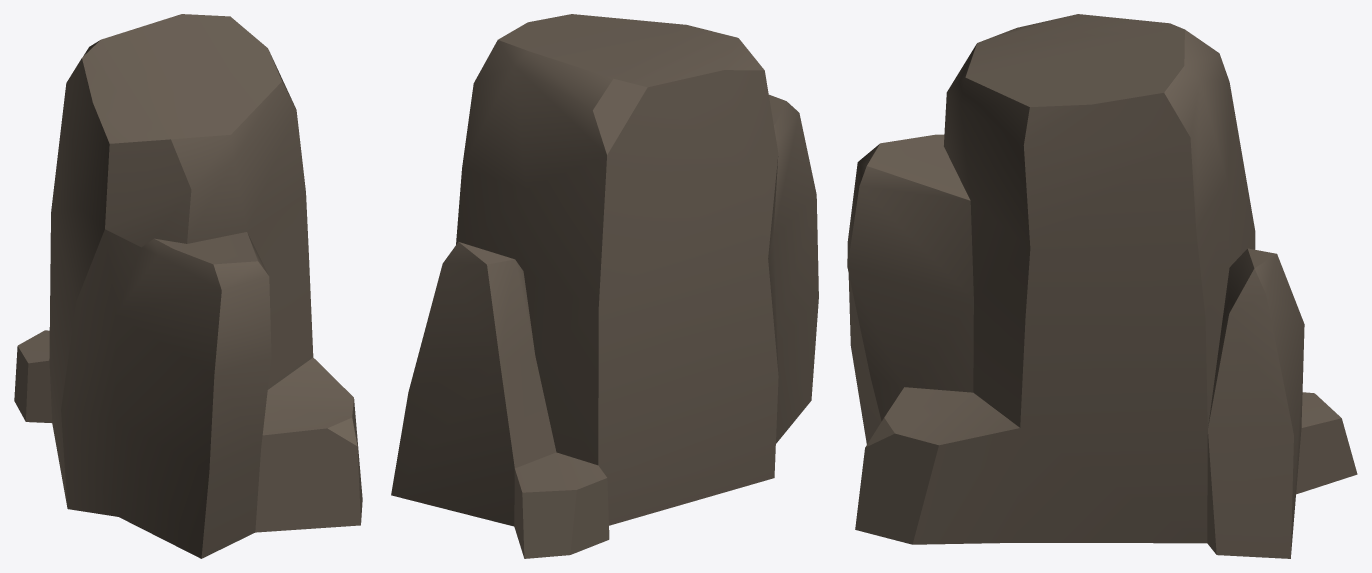
The model's file is retop2.fbx.
The picture shows the model from 3 angles, left to right: view 1: azimuth 30°, elevation 25°; view 2: azimuth 150°, elevation 25°; view 3: azimuth 270°, elevation 25°; orthographic projection. The views are drawn at different scales.
Parts seen in each view (by area): view 1: lp2; view 2: lp2; view 3: lp2.
Boxes of the visible parts, x1,y1,x2,y2 form: lp2: [14, 14, 362, 558]; lp2: [391, 14, 818, 558]; lp2: [847, 14, 1357, 558].
Bounding box in the file's own units: 110 × 163 × 168.
